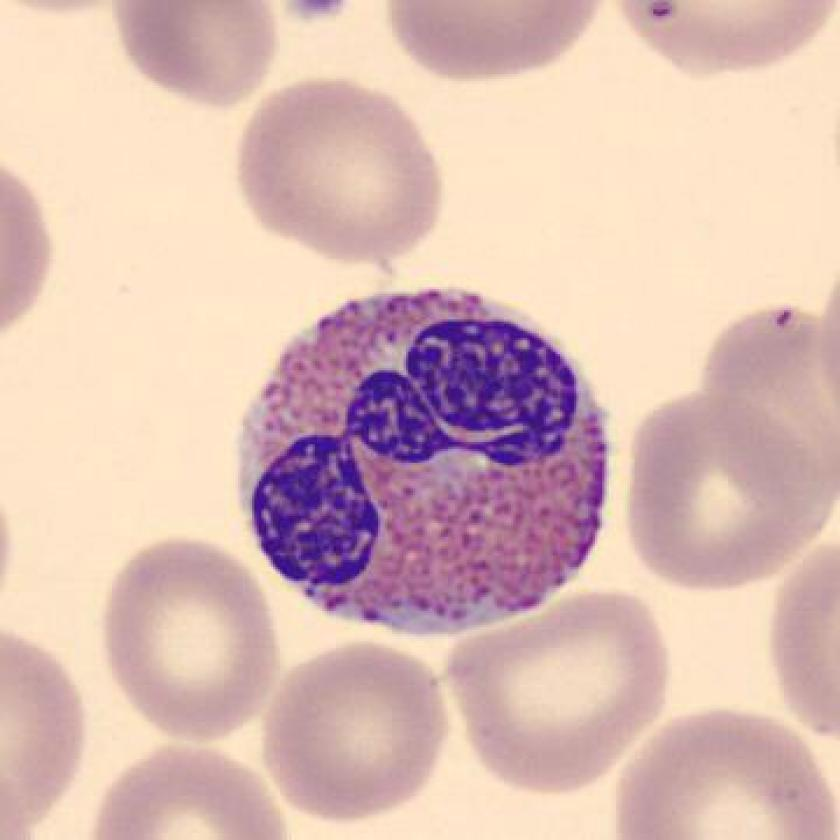eosinophil: (221, 276, 627, 649)
